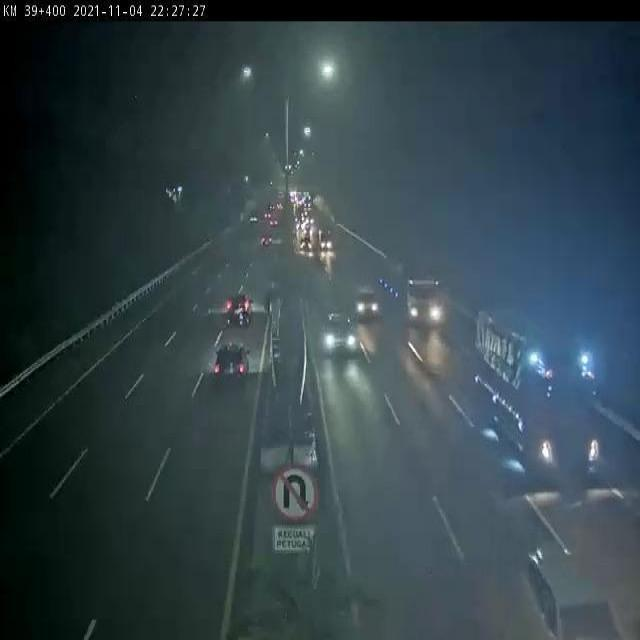car: (320, 309, 356, 352), (214, 344, 250, 384), (352, 288, 380, 321), (225, 294, 249, 326)
truck: (475, 308, 598, 477), (381, 256, 441, 325)
